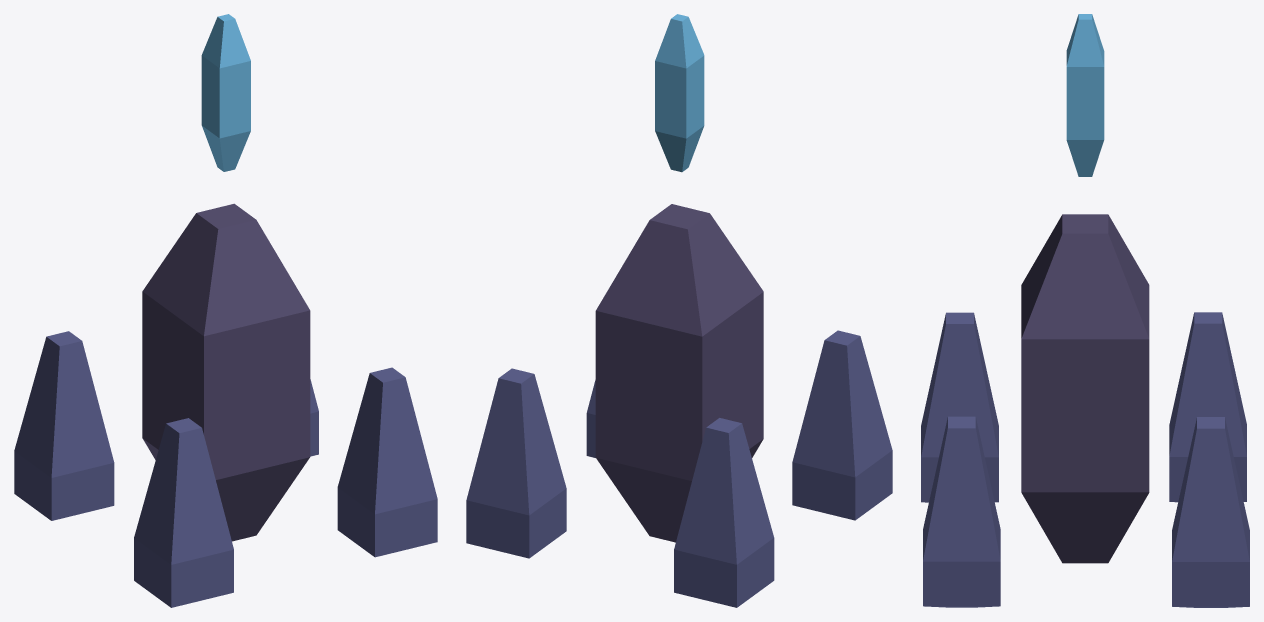
Rendered from monolith2.glb.
The picture shows the model from 3 angles, left to right: view 1: azimuth 30°, elevation 25°; view 2: azimuth 150°, elevation 25°; view 3: azimuth 270°, elevation 25°; orthographic projection. The views are drawn at different scales.
Visible parts, largest first — view 1: Cube, Cube.002, Cube.004, Cube.005, Cube.001, Cube.003; view 2: Cube, Cube.003, Cube.005, Cube.002, Cube.001, Cube.004; view 3: Cube, Cube.004, Cube.003, Cube.002, Cube.005, Cube.001.
Boxes of the visible parts, x1,y1,x2,y2 form: Cube: (142, 203, 310, 541); Cube.002: (14, 331, 114, 520); Cube.004: (337, 367, 437, 557); Cube.005: (134, 418, 233, 607); Cube.001: (201, 14, 250, 171); Cube.003: (310, 379, 318, 456); Cube: (595, 204, 763, 542); Cube.003: (466, 368, 566, 558); Cube.005: (792, 330, 892, 520); Cube.002: (674, 418, 774, 607); Cube.001: (655, 14, 704, 172); Cube.004: (586, 380, 595, 457); Cube: (1021, 214, 1149, 563); Cube.004: (923, 416, 1000, 607); Cube.003: (1172, 417, 1249, 607); Cube.002: (1169, 312, 1246, 502); Cube.005: (921, 312, 998, 502); Cube.001: (1066, 14, 1104, 176).
Size of the model in its own units: 9.97 by 18.23 by 10.12.
6 materials, 6 textured.
